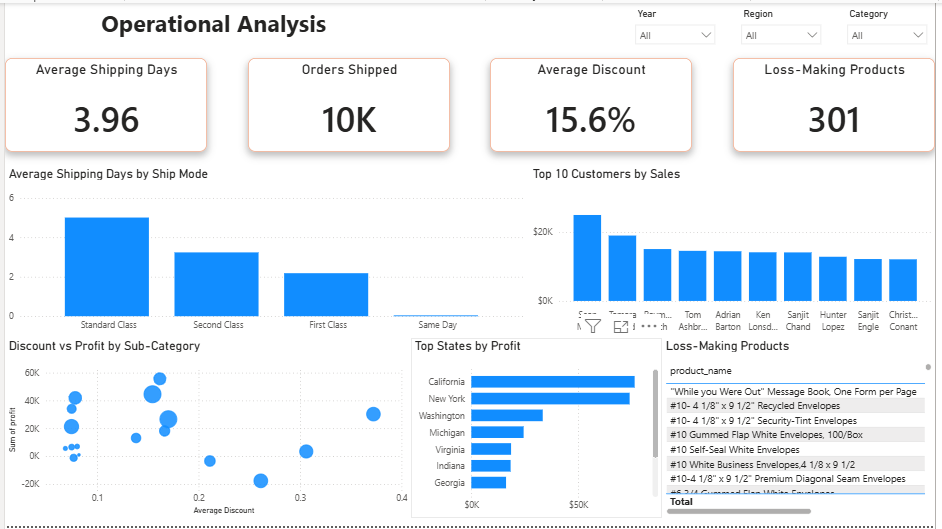

The dashboard page shown, as its layout file describes it:
{"tool":"powerbi","page":{"name":"Page 2","canvas":[1280,720],"ordinal":1},"visuals":[{"type":"textbox","box":[0,0,574.3,64.3],"z":0},{"type":"slicer","fields":{"Values":["public orders.order_date.Variation.Date Hierarchy.Year"]},"box":[858.1,2.8,130,60.5],"z":1000},{"type":"slicer","fields":{"Values":["public orders.region"]},"box":[1003.5,2.8,130,60.5],"z":2000},{"type":"slicer","fields":{"Values":["public orders.category"]},"box":[1149,2.8,130,60.5],"z":3000},{"type":"cardVisual","title":"Average Shipping Days","fields":{"Data":["public orders.Average Shipping Days"]},"box":[0,75.7,278,129.4],"z":4000},{"type":"cardVisual","title":"Orders Shipped","fields":{"Data":["public orders.Orders Shipped"]},"box":[334.5,75.7,278,129.4],"z":5000},{"type":"cardVisual","title":"Average Discount","fields":{"Data":["public orders.Average Discount"]},"box":[667.5,75.7,278,129.4],"z":6000},{"type":"cardVisual","title":"Loss-Making Products","fields":{"Data":["public orders.Loss-Making Products"]},"box":[1002,75.7,278,129.4],"z":7000},{"type":"clusteredColumnChart","title":"Average Shipping Days by Ship Mode","fields":{"Category":["public orders.ship_mode"],"Y":["public orders.Average Shipping Days"]},"box":[0,224.3,721.2,236.7],"z":8000},{"type":"columnChart","title":"Top 10 Customers by Sales","fields":{"Category":["public orders.customer_name"],"Y":["public orders.Total Sales"]},"box":[721.2,224.3,558.8,236.7],"z":9000},{"type":"scatterChart","title":"Discount vs Profit by Sub-Category","fields":{"X":["public orders.Average Discount"],"Y":["Sum(public orders.profit)"],"Size":["Sum(public orders.sales)"],"Category":["public orders.sub_category"]},"box":[0,461.1,558.8,247.7],"z":10000},{"type":"barChart","title":"Top States by Profit","fields":{"Category":["public orders.state"],"Y":["public orders.Total Profit"]},"box":[558.8,461.1,345.5,247.7],"z":11000},{"type":"tableEx","title":"Loss-Making Products","fields":{"Values":["public orders.product_name","public orders.category","Sum(public orders.sales)","Sum(public orders.profit)"]},"box":[904.3,461.1,375.7,247.7],"z":12000}]}

Visuals, with their boxes in screenshot pixels (x1, y1, x2, y2), scaled from the page's 1280x720 canvas onto the 942x529 screenshot:
textbox: <bbox>0, 0, 423, 47</bbox>
slicer - public orders.order_date.Variation.Date Hierarchy.Year: <bbox>632, 2, 727, 47</bbox>
slicer - public orders.region: <bbox>739, 2, 834, 47</bbox>
slicer - public orders.category: <bbox>846, 2, 941, 47</bbox>
"Average Shipping Days" cardVisual: <bbox>0, 56, 205, 151</bbox>
"Orders Shipped" cardVisual: <bbox>246, 56, 451, 151</bbox>
"Average Discount" cardVisual: <bbox>491, 56, 696, 151</bbox>
"Loss-Making Products" cardVisual: <bbox>737, 56, 941, 151</bbox>
"Average Shipping Days by Ship Mode" clusteredColumnChart: <bbox>0, 165, 531, 339</bbox>
"Top 10 Customers by Sales" columnChart: <bbox>531, 165, 941, 339</bbox>
"Discount vs Profit by Sub-Category" scatterChart: <bbox>0, 339, 411, 521</bbox>
"Top States by Profit" barChart: <bbox>411, 339, 666, 521</bbox>
"Loss-Making Products" tableEx: <bbox>666, 339, 941, 521</bbox>
